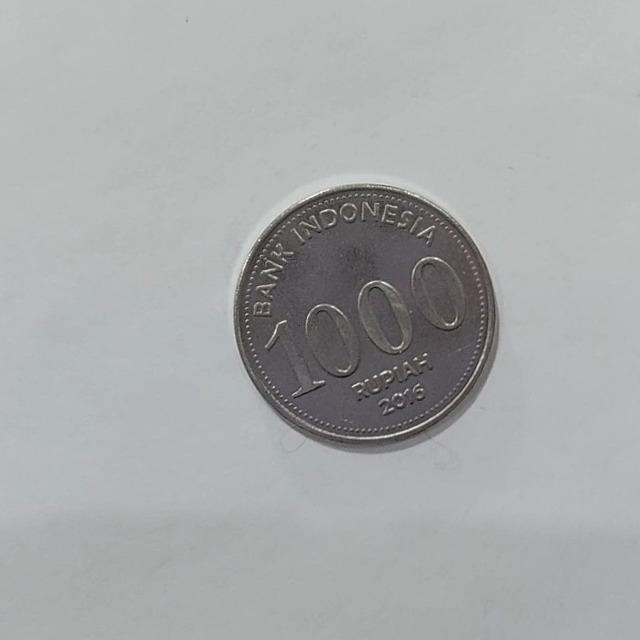Rp100: (231, 177, 500, 450)
